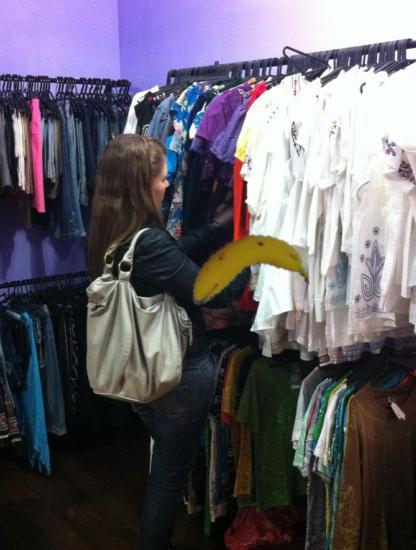Banana: (185, 211, 305, 331)
